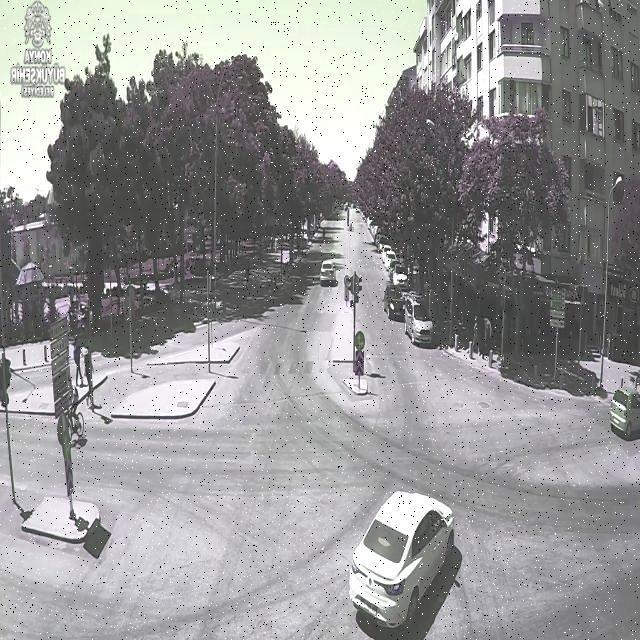Car: (346, 491, 458, 629), (609, 388, 640, 440), (402, 297, 434, 345), (383, 285, 409, 320), (319, 259, 340, 286), (391, 264, 411, 288), (383, 250, 397, 271), (379, 244, 392, 259)
